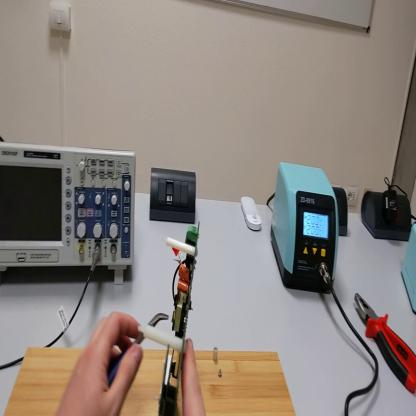hand: (55, 311, 145, 416), (178, 336, 207, 413)
low voltage board: (137, 221, 200, 416)
oscilloscope: (1, 147, 135, 288)
pliers: (354, 292, 415, 393), (111, 314, 172, 389)
socket: (363, 187, 413, 243), (333, 186, 349, 235)
welder base: (402, 226, 415, 317)
welder station: (273, 163, 338, 297)
working area: (4, 348, 295, 415)
